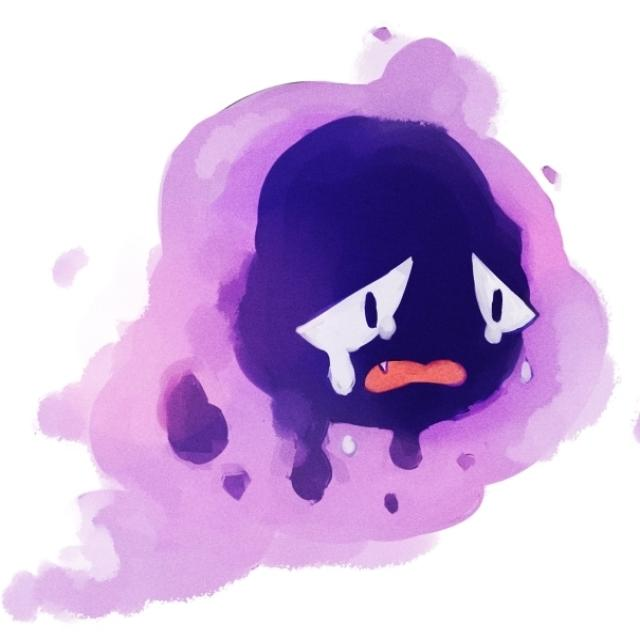Gastly: (141, 66, 558, 537)
